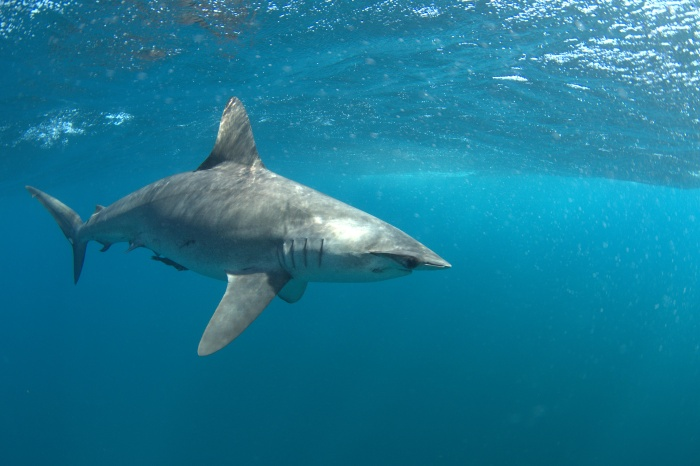Hammer: (15, 88, 476, 375)
